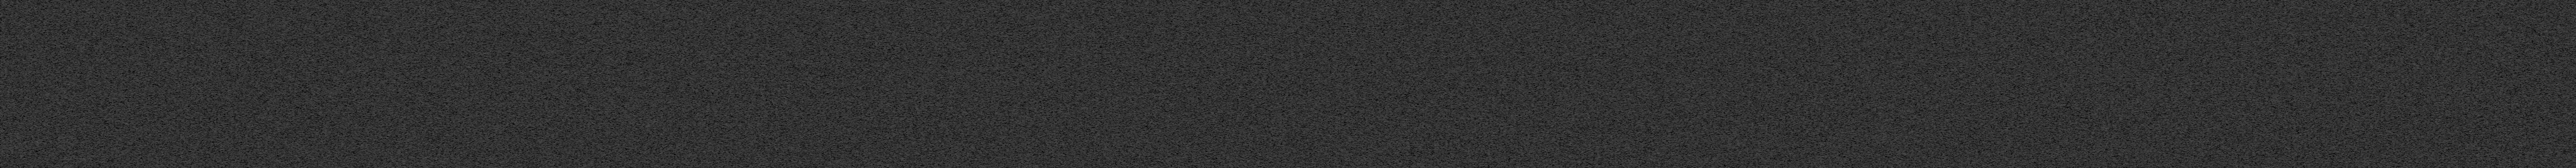wv_cw: (1135, 0, 1138, 137), (1135, 138, 1138, 168)
wv_lsb: (1840, 0, 1845, 155), (2001, 20, 2004, 160), (1119, 2, 1124, 64), (1120, 66, 1124, 138), (1120, 138, 1124, 168), (2001, 0, 2004, 20), (1840, 156, 1845, 168), (2001, 161, 2004, 168), (1120, 64, 1124, 66)
wv_wbfm: (2193, 0, 2221, 168), (230, 0, 243, 168)
